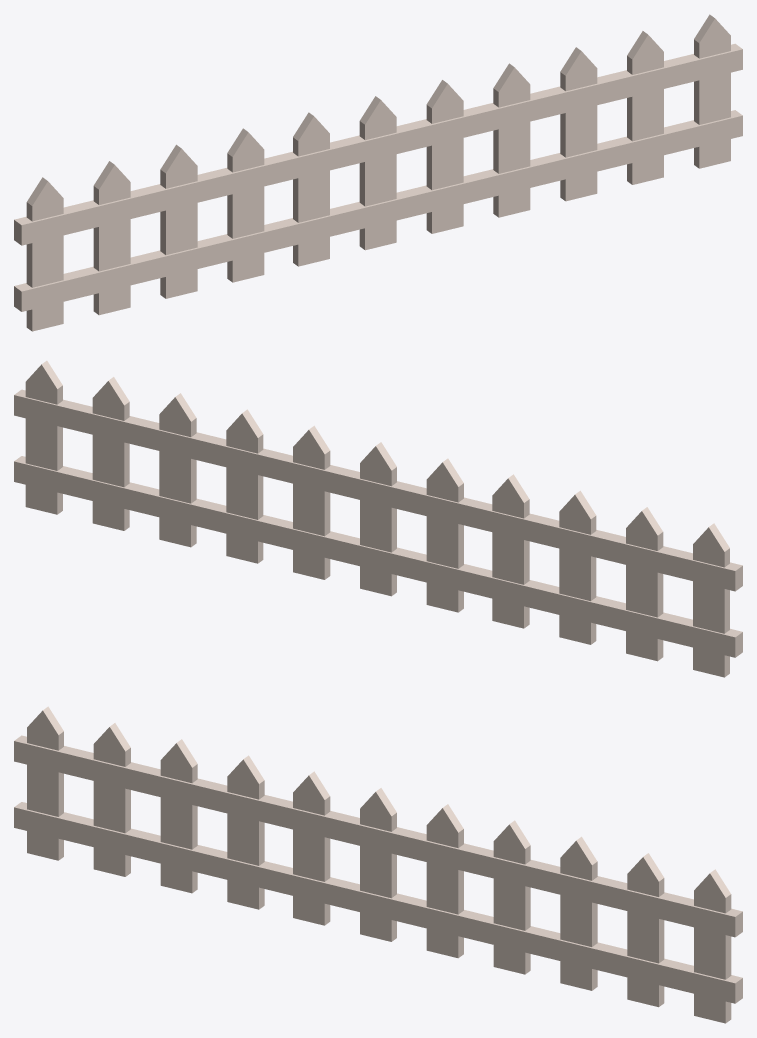
File: Fence_3.fbx
The picture shows the model from 3 angles, top to bottom: view 1: azimuth 30°, elevation 25°; view 2: azimuth 150°, elevation 25°; view 3: azimuth 330°, elevation 25°; orthographic projection.
Visible parts, largest first — view 1: Fence_3; view 2: Fence_3; view 3: Fence_3.
Boxes of the visible parts, x1,y1,x2,y2 form: Fence_3: (14, 14, 742, 331); Fence_3: (14, 360, 742, 677); Fence_3: (14, 706, 742, 1023).
Bounding box in the file's own units: 462 × 8.45 × 89.73.
